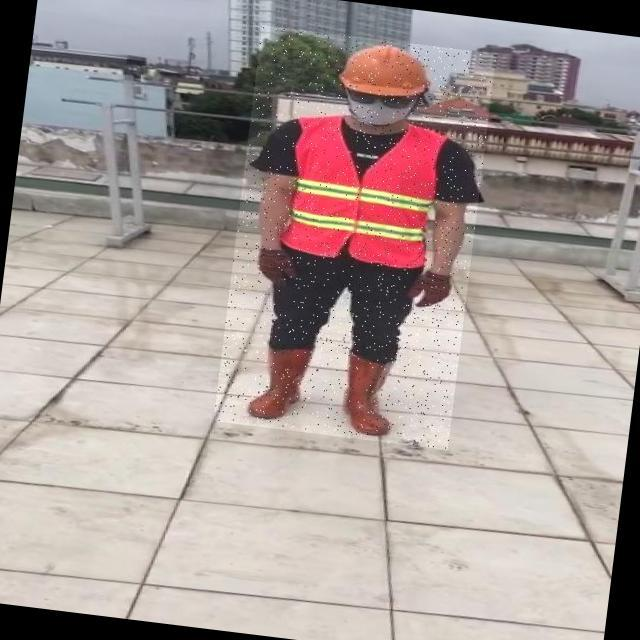Helmet: (334, 36, 438, 100)
Human: (214, 25, 497, 450)
Safety Boot: (336, 352, 403, 439), (246, 341, 315, 424)
Safety Vest: (278, 111, 444, 271)
